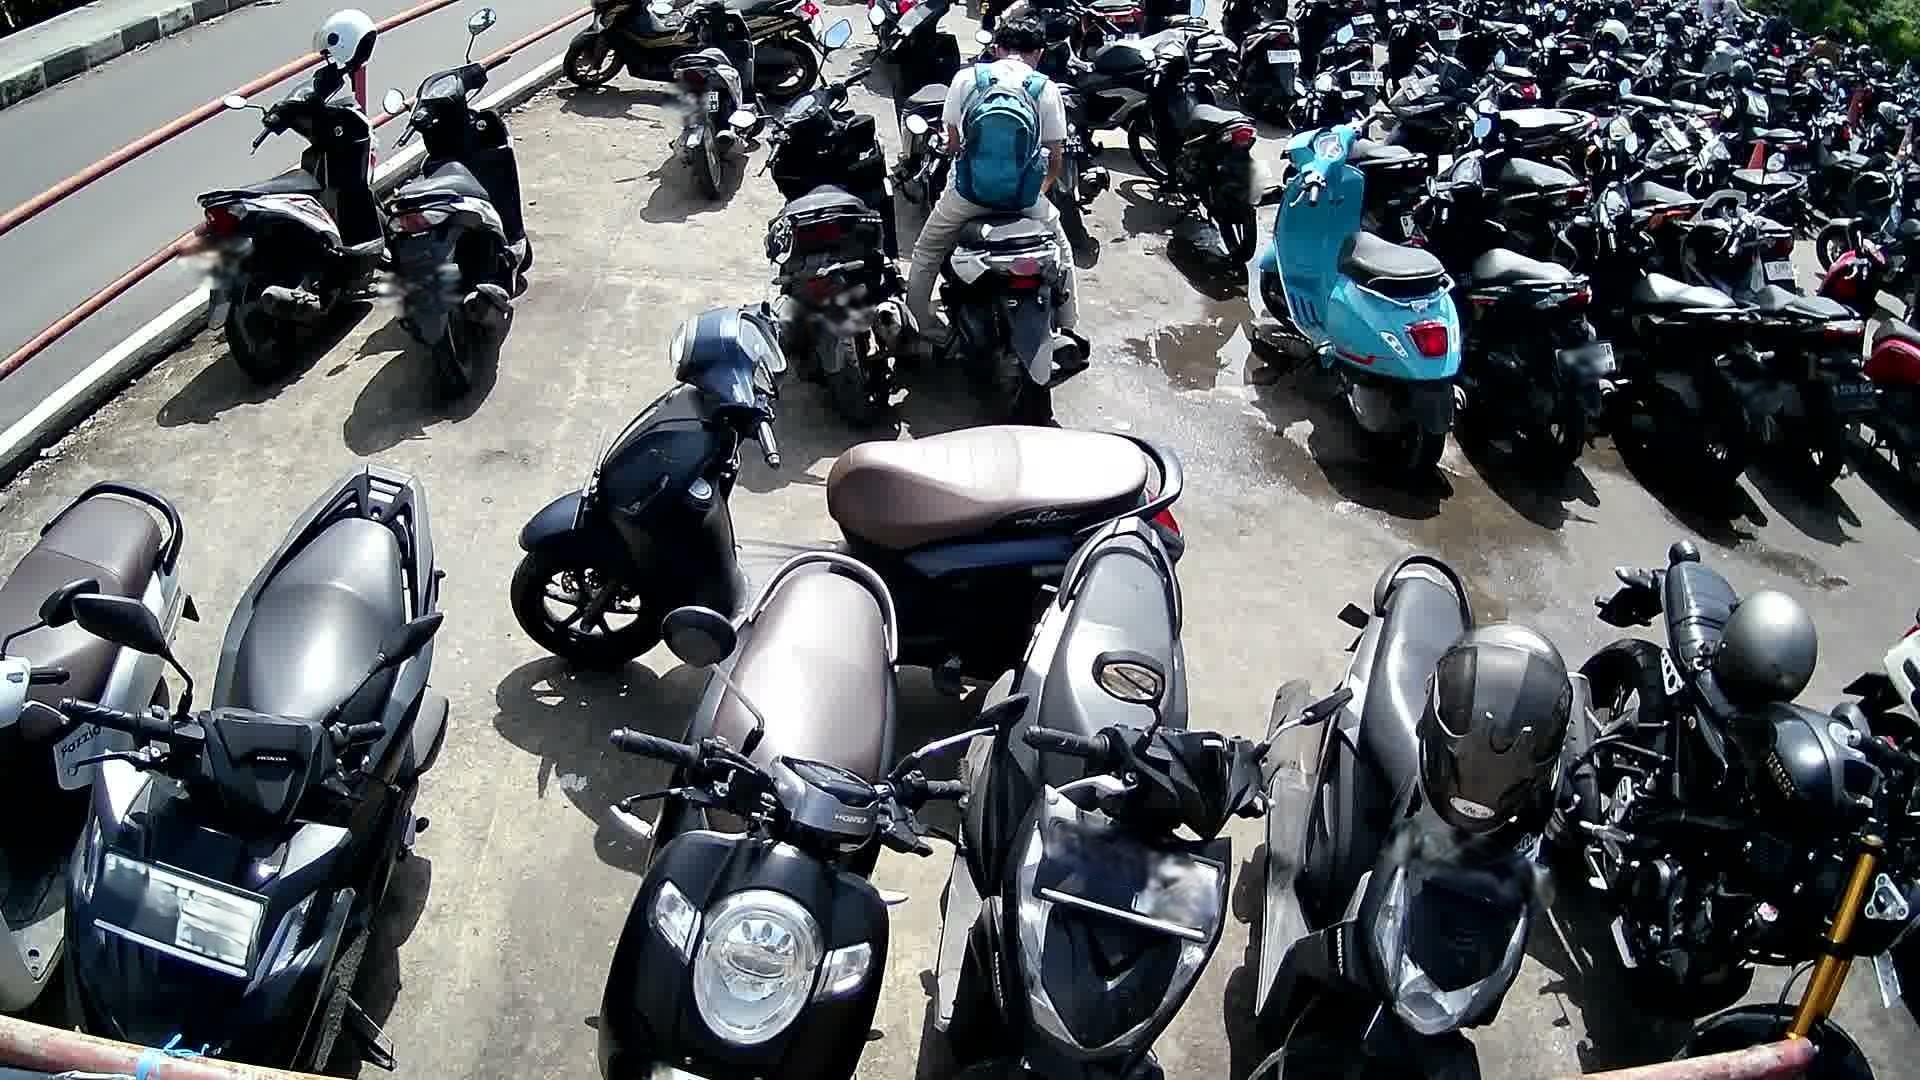motorcycle: (513, 289, 1187, 675), (59, 464, 456, 1067), (582, 551, 964, 1080), (934, 517, 1284, 1080), (1251, 553, 1594, 1080), (1573, 543, 1907, 1080), (4, 480, 199, 1013), (1258, 113, 1470, 483), (727, 63, 919, 427), (1406, 145, 1621, 469), (1553, 161, 1768, 483), (193, 67, 392, 378), (1685, 186, 1880, 493), (906, 113, 1097, 418), (380, 47, 541, 398)
